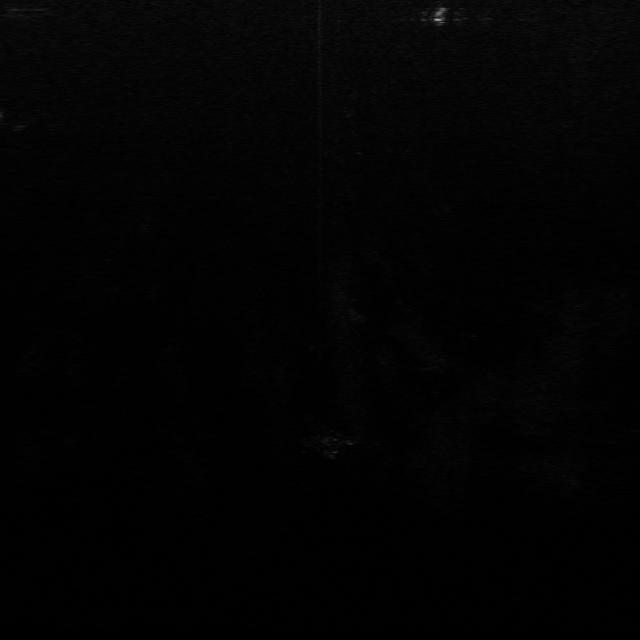rov: (427, 2, 458, 24)
